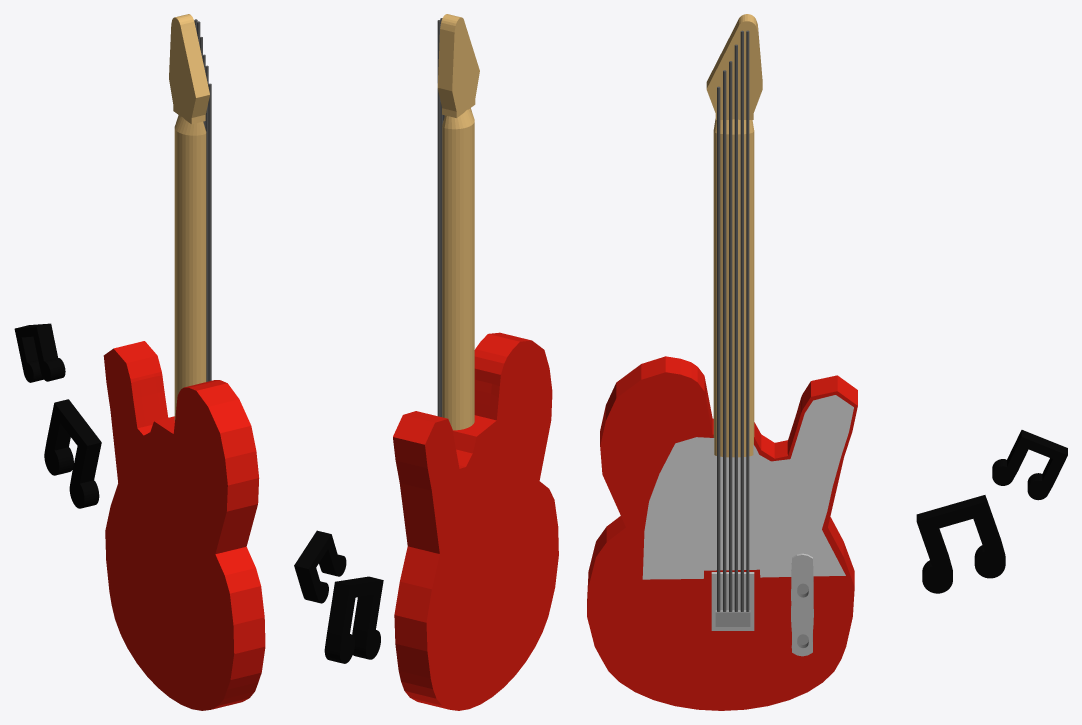
File: guitar.fbx
3 renders of one model, left to right at view 1: azimuth 30°, elevation 25°; view 2: azimuth 150°, elevation 25°; view 3: azimuth 270°, elevation 25°, orthographic. The views are drawn at different scales.
Parts seen in each view (by area): view 1: Cylinder, Cylinder.001, Cube, Cube.003, Cube.004, Cube.005, Cylinder.007, Cube.008, Cylinder.008, Cube.007; view 2: Cylinder, Cylinder.001, Cube, Cube.004, Cube.003, Cylinder.009, Cylinder.010, Cube.006, Cube.007, Cube.005, Cube.008; view 3: Cylinder, Plane, Cylinder.001, Cube, Cylinder.009, Cylinder.010, Cylinder.006, Cylinder.005, Cylinder.008, Cylinder.007, Cylinder.002, Cube.004 (+6 smaller).
Boxes of the visible parts, x1,y1,x2,y2 form: Cylinder: (103,341,265,710); Cylinder.001: (174,115,206,420); Cube: (169,14,209,124); Cube.003: (69,446,100,508); Cube.004: (44,413,73,475); Cube.005: (52,399,101,455); Cylinder.007: (208,83,211,381); Cube.008: (33,327,65,381); Cylinder.008: (205,65,208,381); Cube.007: (16,336,43,382); Cylinder: (393,332,558,710); Cylinder.001: (442,108,474,430); Cube: (437,14,479,117); Cube.004: (324,587,355,663); Cube.003: (352,593,381,659); Cylinder.009: (437,20,440,416); Cylinder.010: (440,18,443,416); Cube.006: (294,530,333,575); Cube.007: (295,568,328,603); Cube.005: (334,576,383,598); Cube.008: (319,541,346,576); Cylinder: (587,356,857,710); Plane: (642,395,853,579); Cylinder.001: (713,119,754,457); Cube: (706,14,762,119); Cylinder.009: (746,30,749,611); Cylinder.010: (740,30,743,611); Cylinder.006: (734,44,737,611); Cylinder.005: (729,61,732,611); Cylinder.008: (723,70,726,611); Cylinder.007: (717,86,720,611); Cylinder.002: (791,553,813,656); Cube.004: (973,500,1005,578).
Bounding box in the file's own units: 31.02 × 464 × 293.
